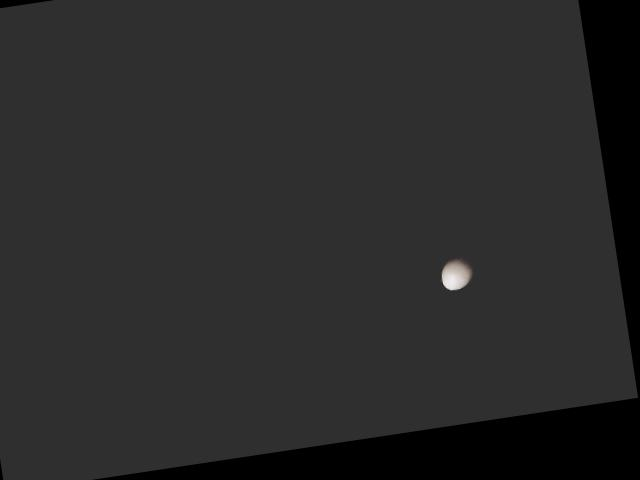egg: (439, 255, 476, 291)
